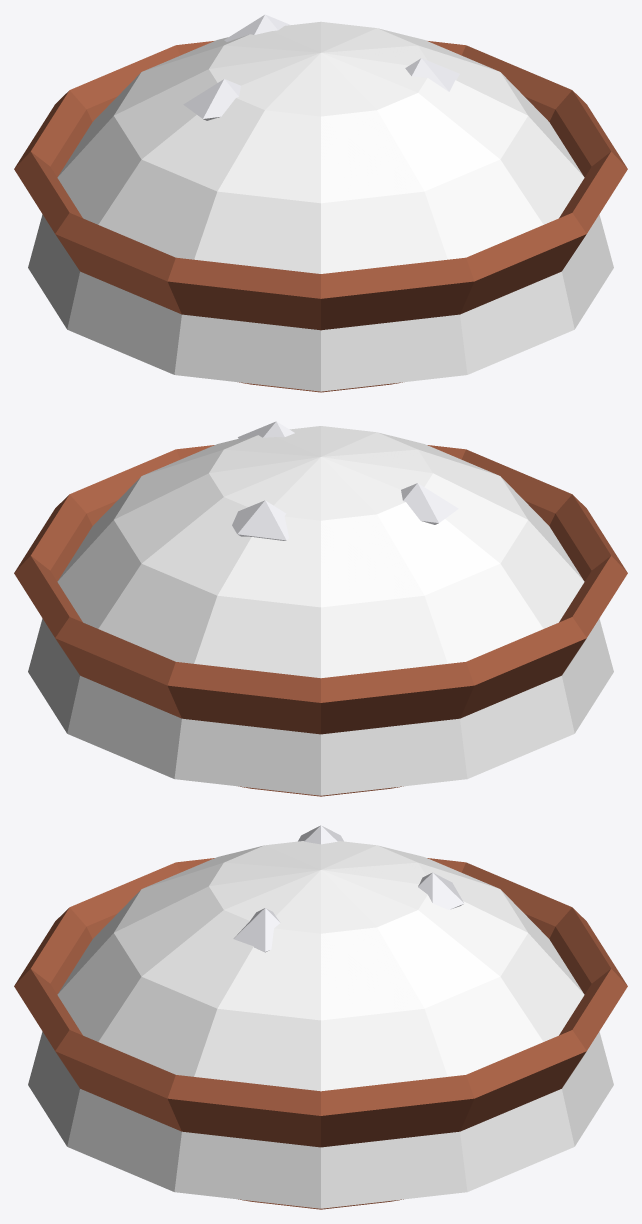
The model's file is rice-cooked.glb.
3 views of the same model, one above another, from view 1: azimuth 30°, elevation 25°; view 2: azimuth 150°, elevation 25°; view 3: azimuth 270°, elevation 25° (orthographic).
Parts seen in each view (by area): view 1: rice-cooked; view 2: rice-cooked; view 3: rice-cooked.
Boxes of the visible parts, x1,y1,x2,y2 form: rice-cooked: (14,14,627,392); rice-cooked: (14,421,627,796); rice-cooked: (14,825,627,1209).
Bounding box in the file's own units: 0.22 × 0.111 × 0.22.
1 material, 1 textured.
